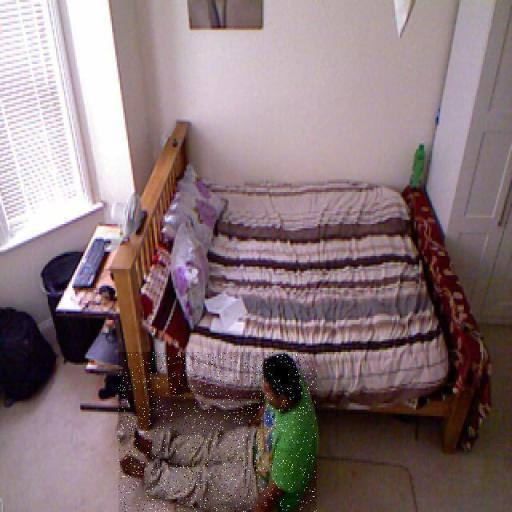Fall: (118, 352, 317, 512)
